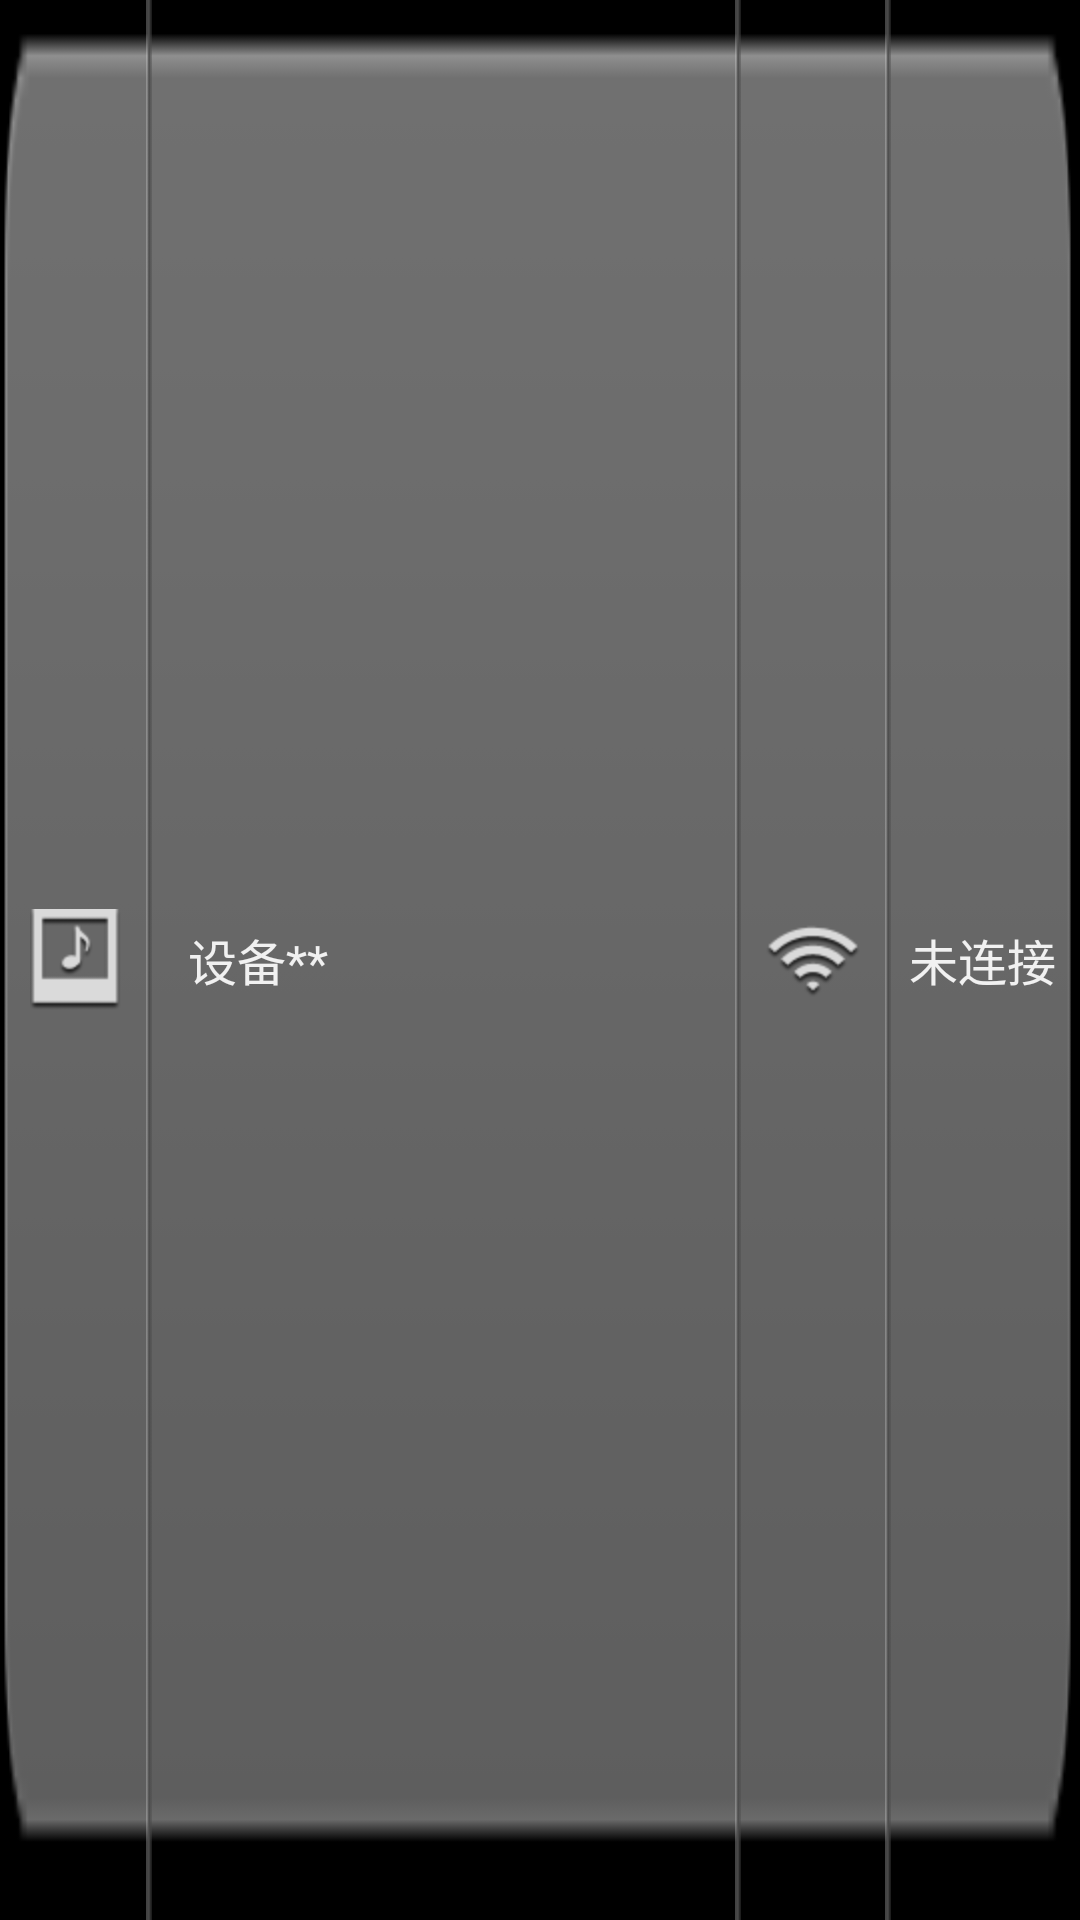

Point at icon controls on the screen. Image size 1080px×1920px, points as [x,y].
wifi four: [813,960]
